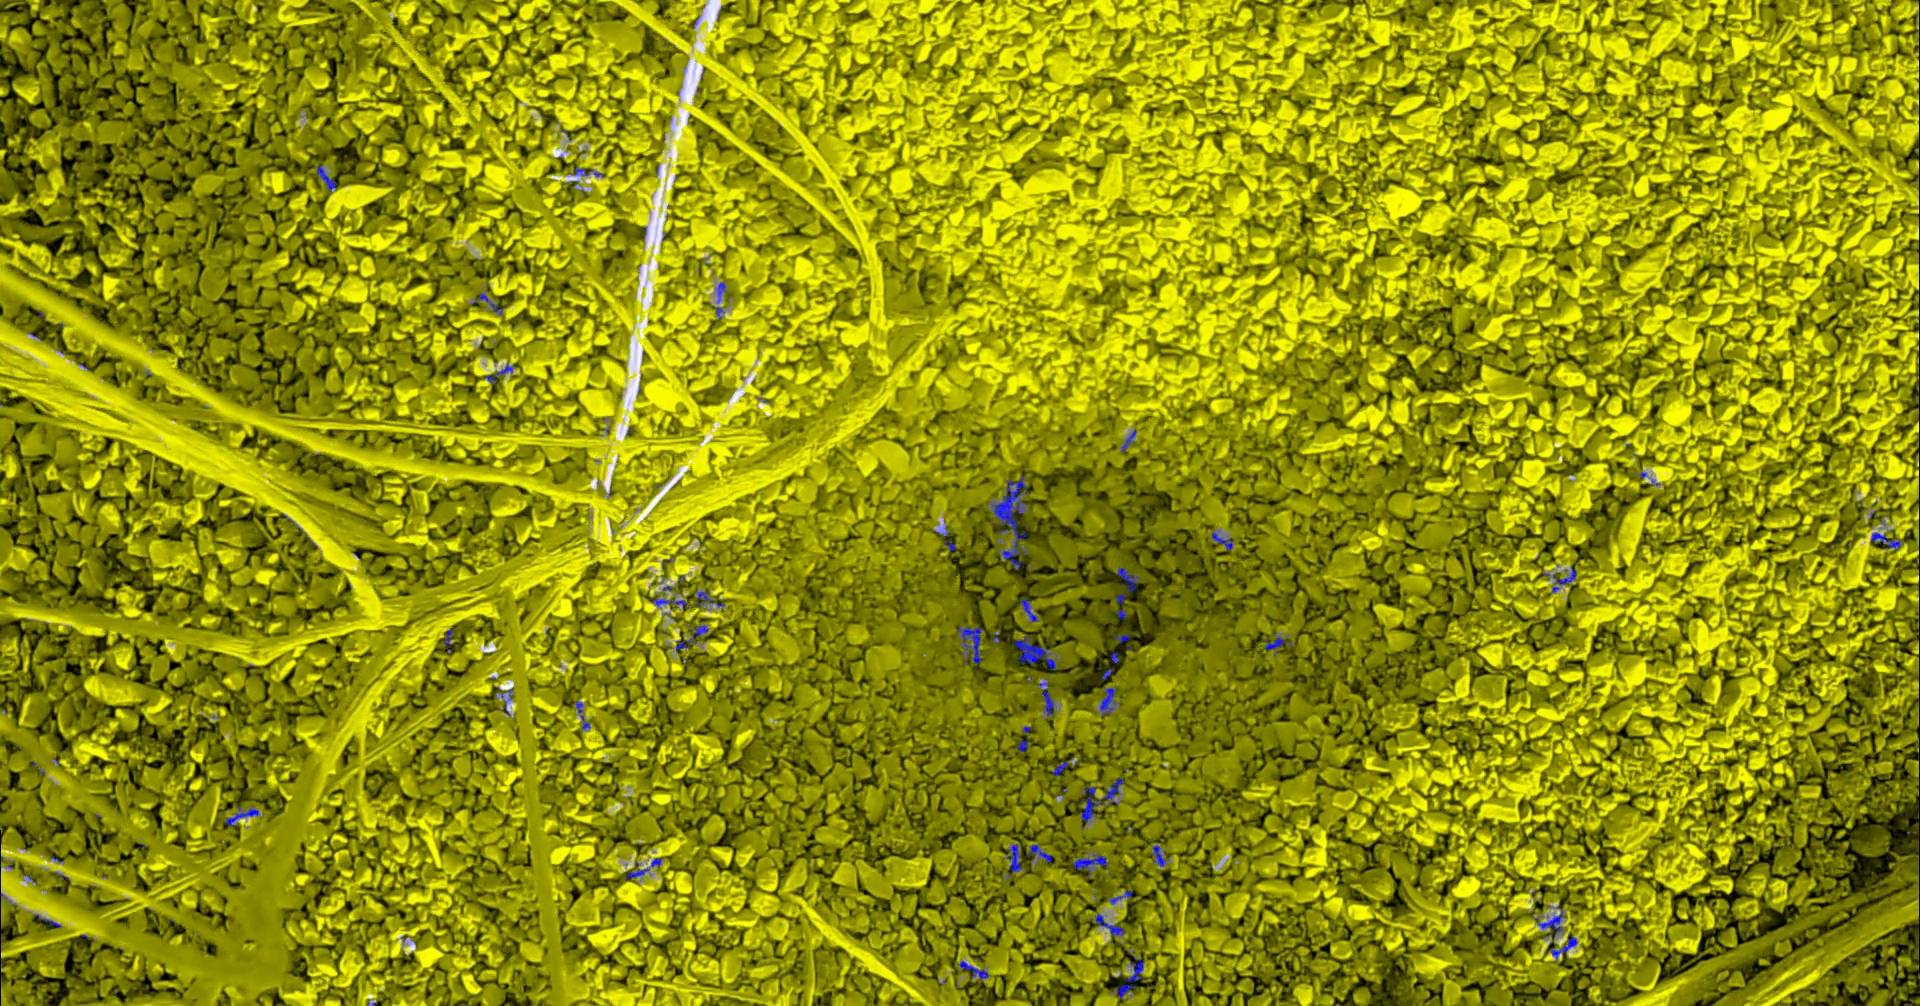ant: (1537, 901, 1578, 958), (1082, 777, 1125, 828), (1115, 949, 1149, 998), (1016, 635, 1057, 669), (957, 625, 983, 664), (677, 624, 710, 652), (1544, 565, 1578, 592), (1074, 852, 1109, 876), (474, 292, 505, 315), (1039, 678, 1058, 716), (1096, 912, 1125, 936), (226, 805, 260, 826), (1117, 567, 1142, 592), (695, 589, 726, 608), (960, 960, 990, 979), (488, 363, 516, 384), (1265, 633, 1294, 652), (936, 526, 957, 551), (1008, 843, 1023, 879), (317, 164, 337, 191), (1027, 843, 1054, 862), (1872, 532, 1902, 549), (1101, 686, 1117, 715), (1211, 531, 1236, 550), (626, 861, 651, 879), (577, 700, 592, 729), (1021, 598, 1040, 621), (1053, 760, 1078, 776), (717, 281, 728, 319), (651, 598, 687, 608), (1123, 429, 1138, 451), (1110, 890, 1134, 903), (575, 166, 604, 177), (1154, 843, 1167, 866), (446, 627, 455, 653)
